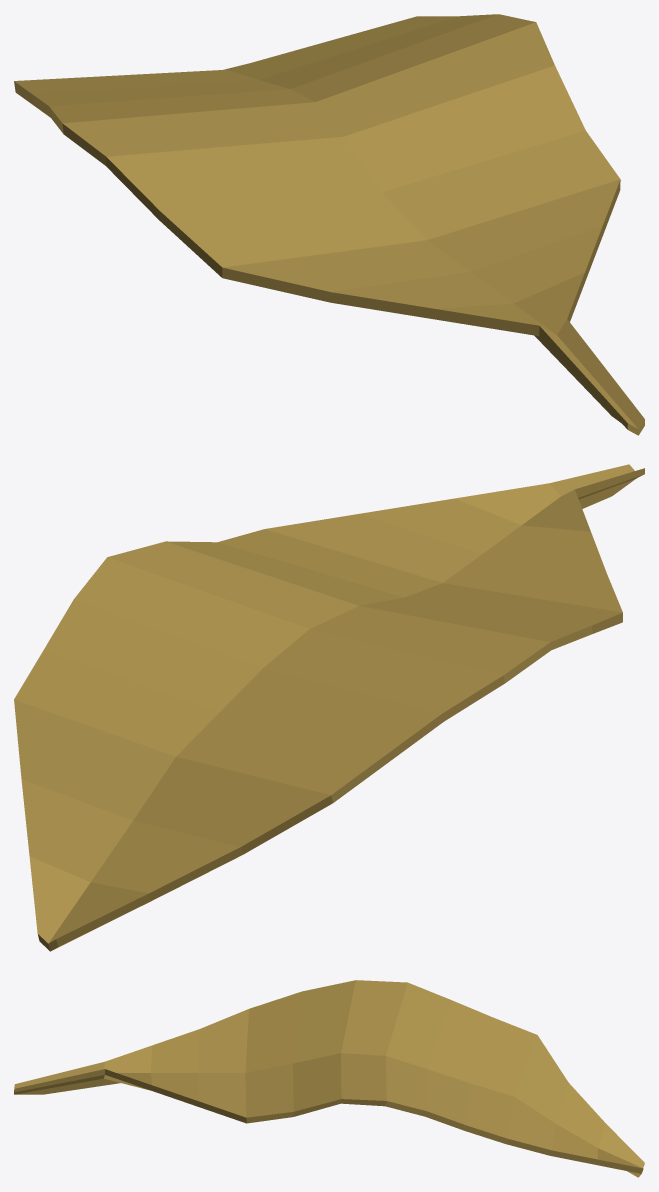
The model's file is DryLeaf.fbx.
The picture shows the model from 3 angles, top to bottom: view 1: azimuth 30°, elevation 25°; view 2: azimuth 150°, elevation 25°; view 3: azimuth 270°, elevation 25°; orthographic projection. The views are drawn at different scales.
Parts seen in each view (by area): view 1: Leaf.001; view 2: Leaf.001; view 3: Leaf.001.
Boxes of the visible parts, x1=… form: Leaf.001: x1=14, y1=14, x2=644, y2=435; Leaf.001: x1=14, y1=464, x2=644, y2=951; Leaf.001: x1=14, y1=980, x2=644, y2=1177.
Size of the model in its own units: 65.21 by 30.28 by 142.
